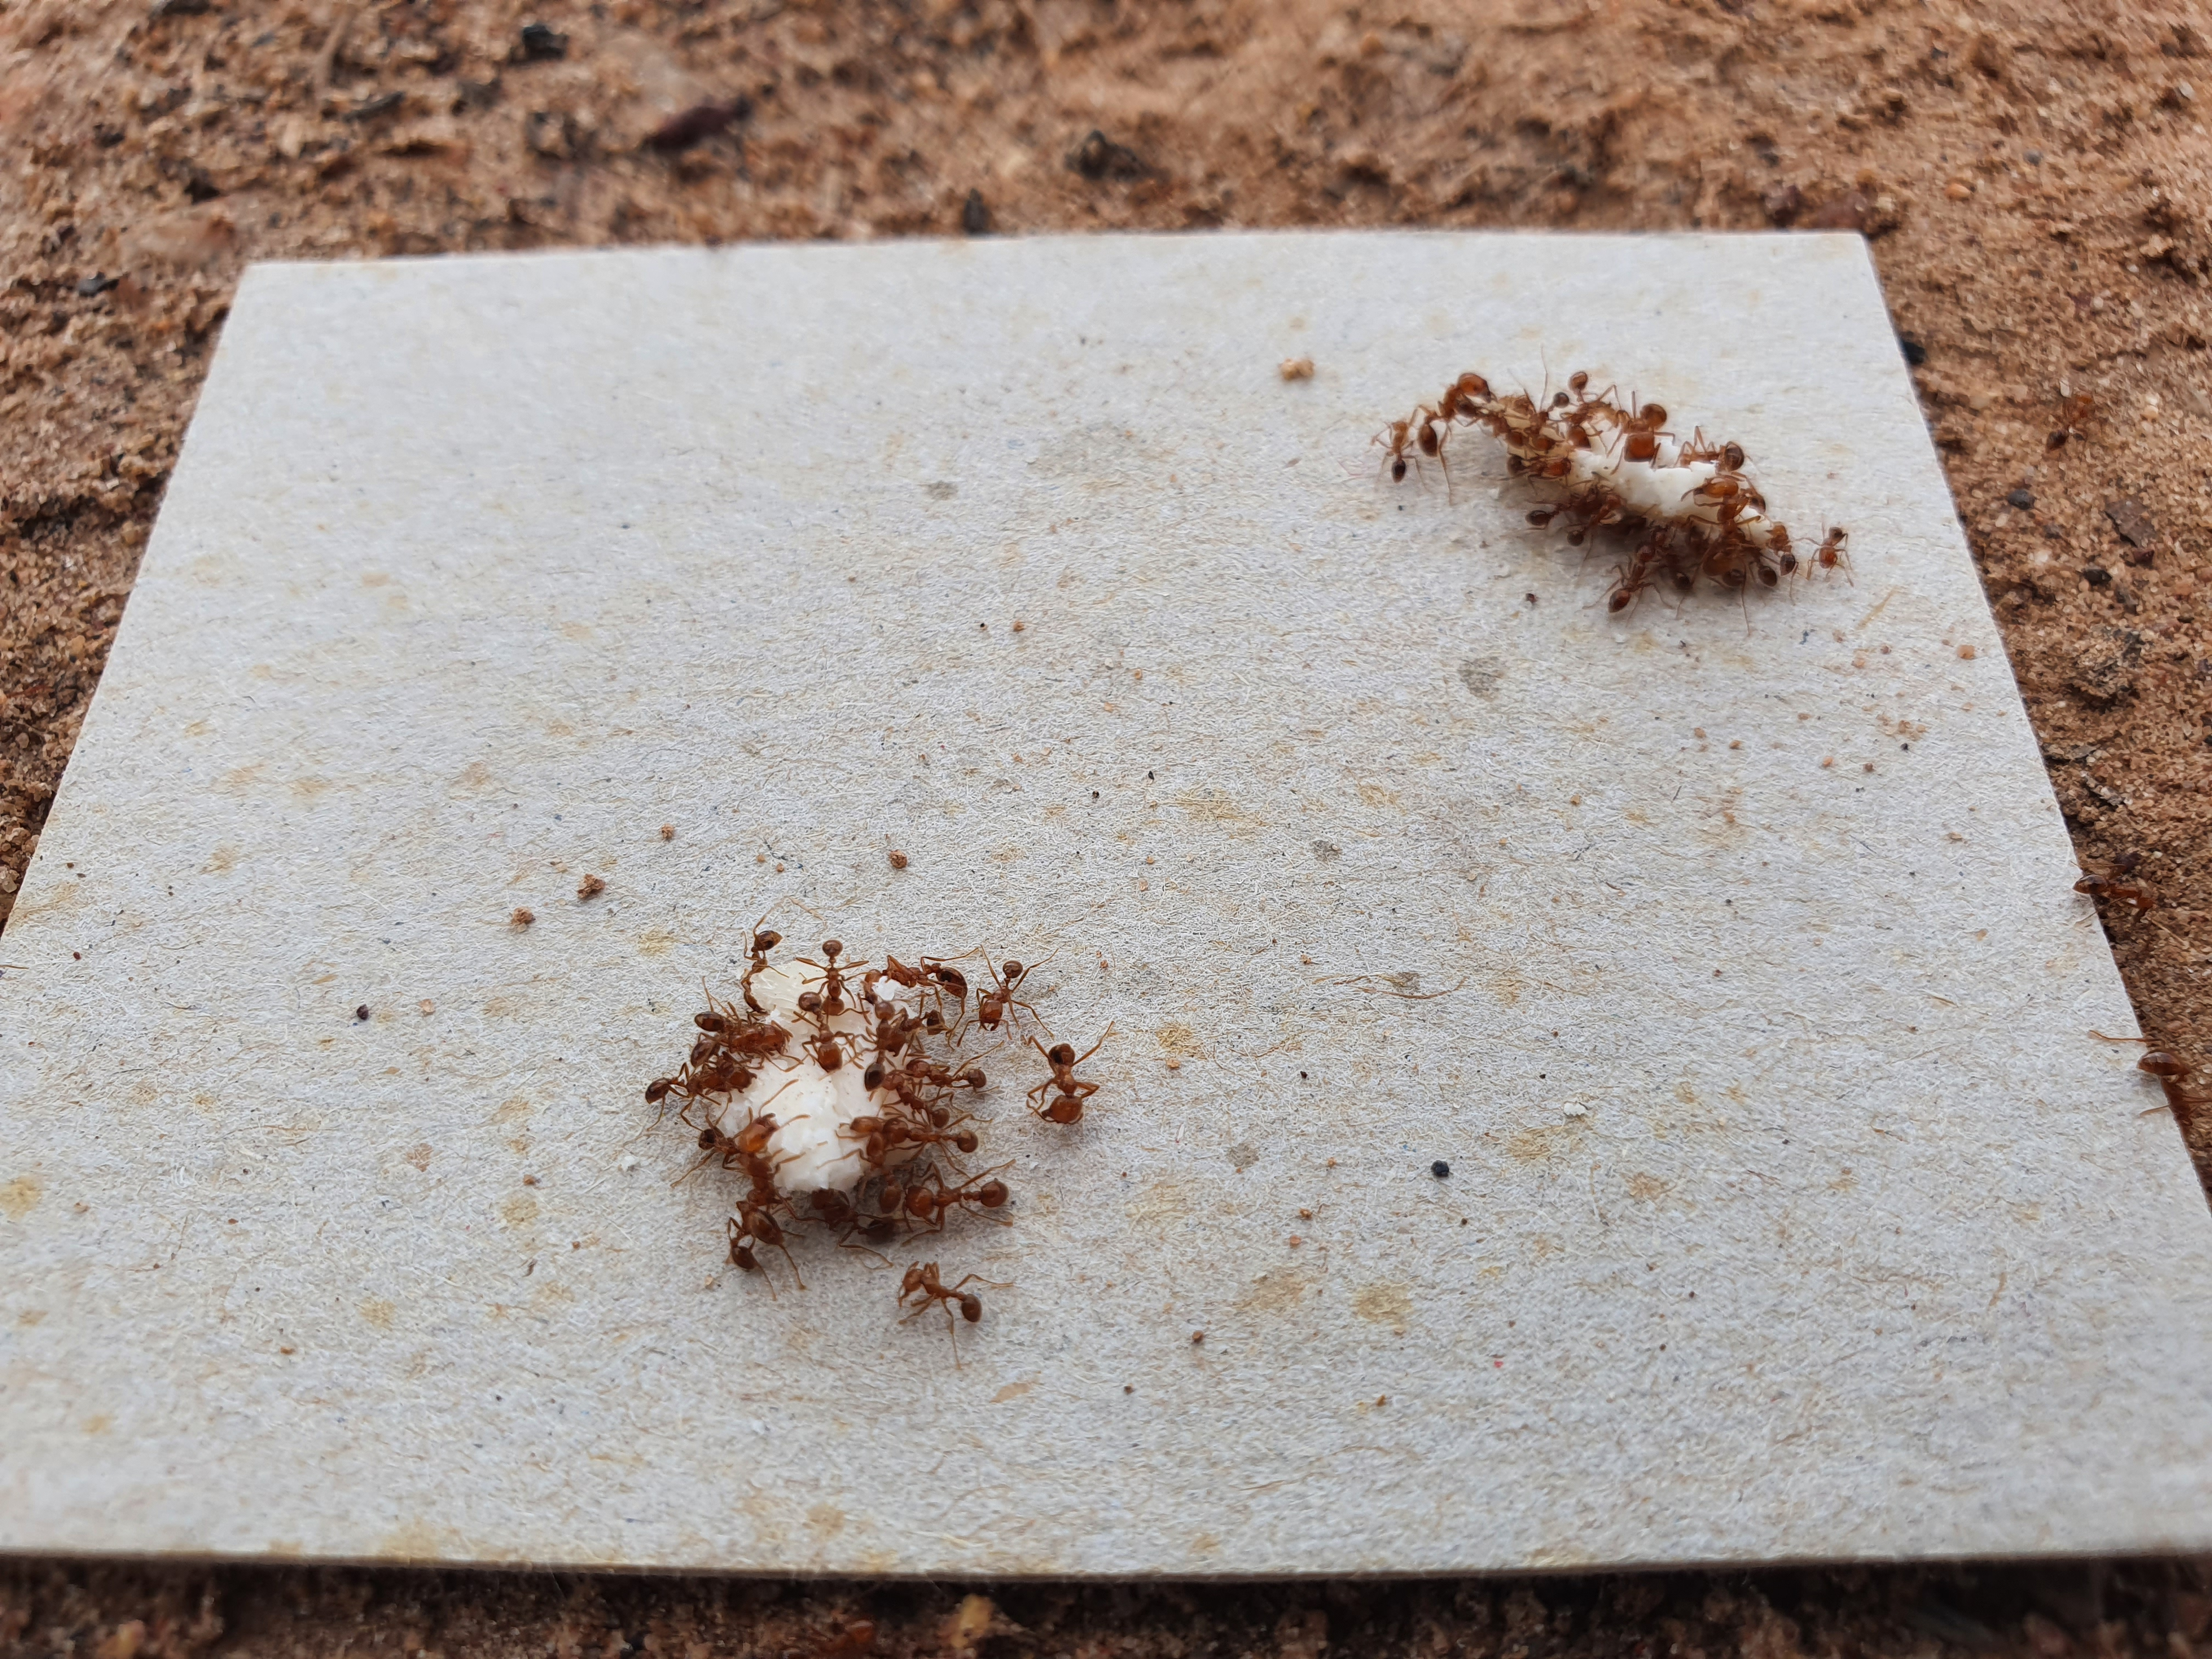Solenopsis_geminata: (876, 1241, 1021, 1385), (1007, 1007, 1125, 1171), (1400, 349, 1515, 490), (2060, 835, 2175, 960), (892, 1157, 1035, 1249), (2019, 362, 2128, 481), (961, 932, 1061, 1060), (1587, 521, 1684, 640), (786, 920, 866, 1028), (1796, 502, 1876, 605)
